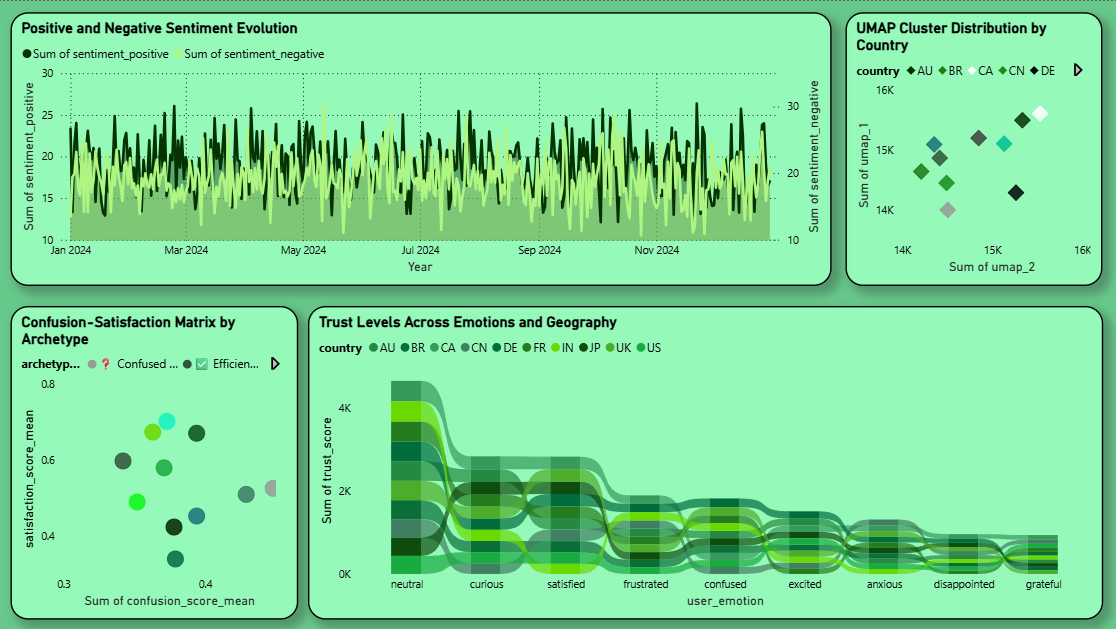

The page's visual inventory and layout, read from the dashboard file:
{"tool":"powerbi","page":{"name":"Page 2","canvas":[1280,720],"ordinal":1},"visuals":[{"type":"scatterChart","title":"Confusion-Satisfaction Matrix by Archetype","fields":{"Series":["powerbi_archetype_summary (2).archetype_name"],"Y":["powerbi_archetype_summary (2).satisfaction_score_mean"],"X":["Sum(powerbi_archetype_summary (2).confusion_score_mean)"]},"box":[14.3,348.6,328.6,358.6],"z":0},{"type":"scatterChart","title":"UMAP Cluster Distribution by Country","fields":{"X":["Sum(powerbi_interaction_data (3).umap_2)"],"Y":["Sum(powerbi_interaction_data (3).umap_1)"],"Series":["powerbi_interaction_data (3).country"]},"box":[968.8,12.5,293.8,312.5],"z":2000},{"type":"ribbonChart","title":"Trust Levels Across Emotions and Geography","fields":{"Category":["powerbi_interaction_data (3).user_emotion"],"Y":["Sum(powerbi_interaction_data (3).trust_score)"],"Series":["powerbi_interaction_data (3).country"]},"box":[371.7,361.7,890,345],"z":3000},{"type":"areaChart","title":"Positive and Negative Sentiment Evolution","fields":{"Category":["powerbi_interaction_data (3).timestamp.Variation.Date Hierarchy.Year","powerbi_interaction_data (3).timestamp.Variation.Date Hierarchy.Quarter","powerbi_interaction_data (3).timestamp.Variation.Date Hierarchy.Month","powerbi_interaction_data (3).timestamp.Variation.Date Hierarchy.Day"],"Y":["Sum(powerbi_interaction_data (3).sentiment_positive)"],"Y2":["Sum(powerbi_interaction_data (3).sentiment_negative)"]},"box":[13.8,12.5,938.8,312.5],"z":4000}]}

Visuals, with their boxes in screenshot pixels (x1, y1, x2, y2), scaled from the page's 1280x720 canvas onto the 1116x629 screenshot:
"Confusion-Satisfaction Matrix by Archetype" scatterChart: [left=12, top=305, right=299, bottom=618]
"UMAP Cluster Distribution by Country" scatterChart: [left=845, top=11, right=1101, bottom=284]
"Trust Levels Across Emotions and Geography" ribbonChart: [left=324, top=316, right=1100, bottom=617]
"Positive and Negative Sentiment Evolution" areaChart: [left=12, top=11, right=831, bottom=284]
